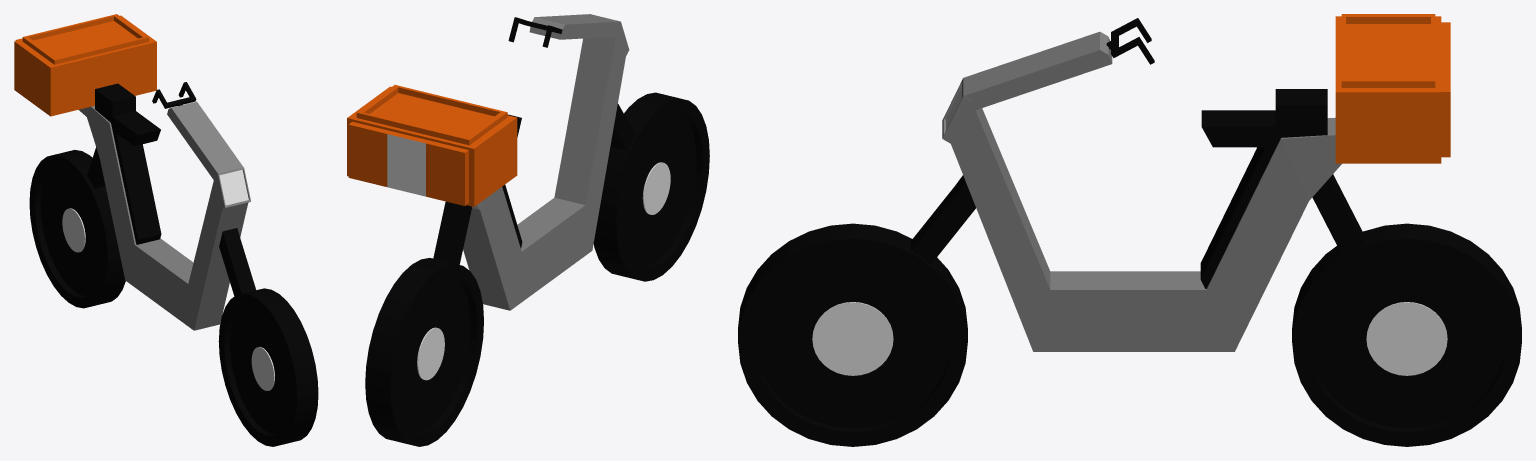
Rendered from e bike.fbx.
The picture shows the model from 3 angles, left to right: view 1: azimuth 30°, elevation 25°; view 2: azimuth 150°, elevation 25°; view 3: azimuth 270°, elevation 25°; orthographic projection. The views are drawn at different scales.
Parts seen in each view (by area): view 1: Cube; view 2: Cube; view 3: Cube.
Part boxes in pixels (left/top/right/bottom): Cube: left=14, top=14, right=318, bottom=446; Cube: left=347, top=14, right=709, bottom=446; Cube: left=738, top=14, right=1521, bottom=446.
Size of the model in its own units: 76.33 by 193 by 332.
